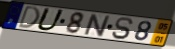8: (65, 11, 86, 35), (134, 20, 153, 41)
D: (16, 5, 41, 29)
N: (83, 13, 111, 38)
S: (110, 17, 135, 41)
U: (35, 7, 67, 32)
